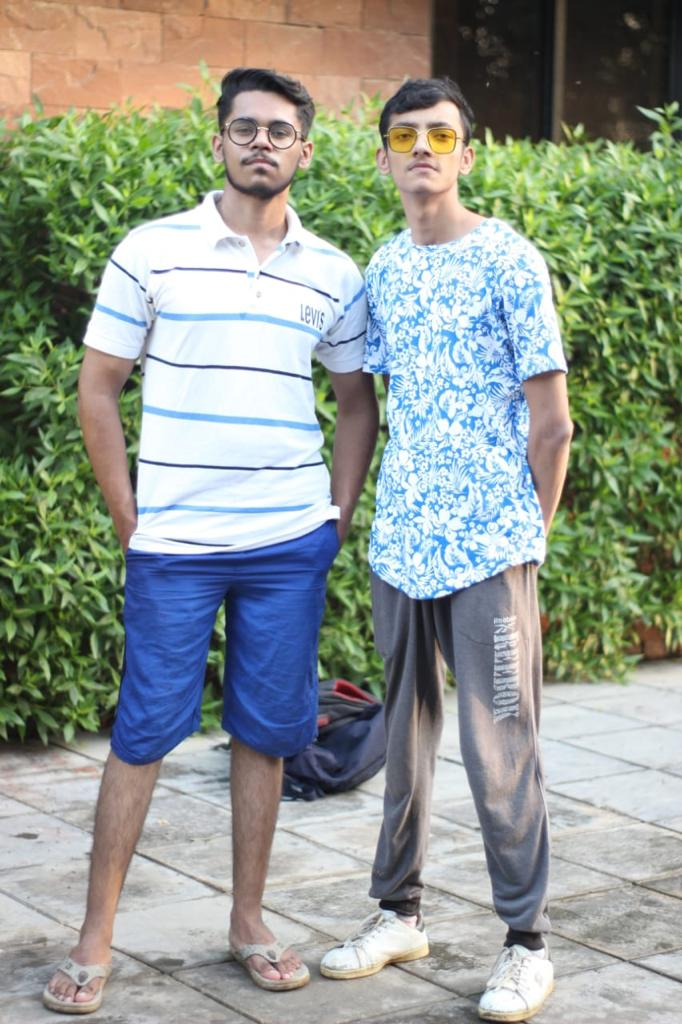NoMask: (388, 117, 463, 195), (226, 113, 295, 197)
